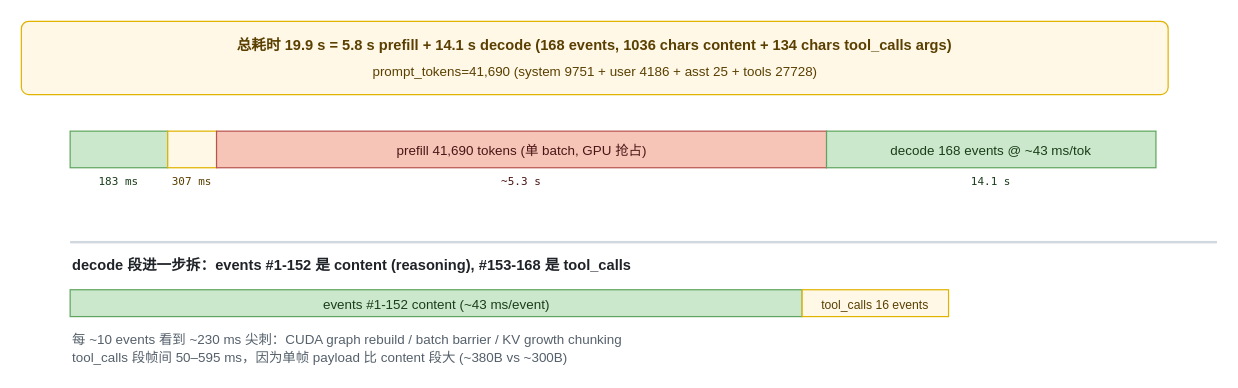
Image size: 1238x388. Some labels were removed from this diagram. Here are the shapes that lost their labels. From the top down, the centre of each, then its label:
At (118,149): "connect".
At (192,149): "tk".
